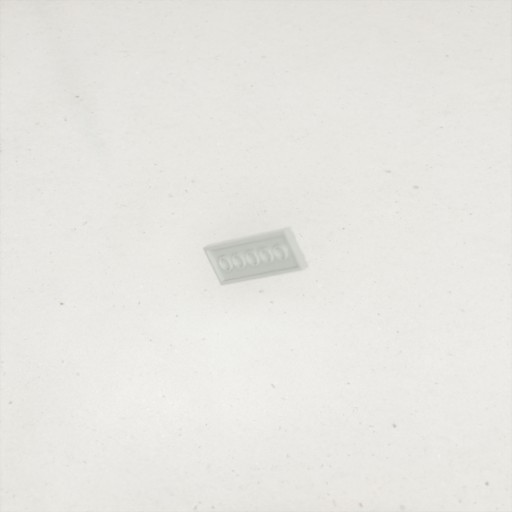lego: (202, 226, 309, 286)
